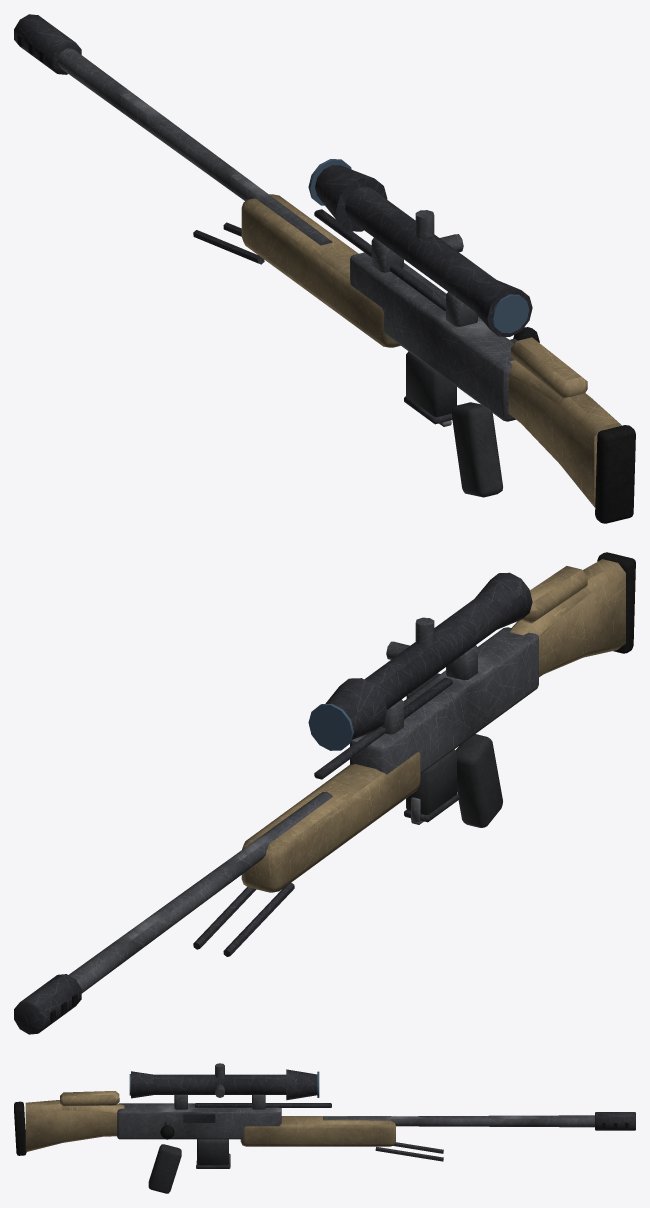
File: sniper.glb
3 views of the same model, one above another, from view 1: azimuth 30°, elevation 25°; view 2: azimuth 150°, elevation 25°; view 3: azimuth 270°, elevation 25° (orthographic). The views are drawn at different scales.
Parts seen in each view (by area): view 1: body, mag; view 2: body, mag; view 3: body, mag.
Boxes of the visible parts, <box> form: body: <box>14,14,635,523</box>; mag: <box>404,351,456,424</box>; body: <box>14,552,635,1034</box>; mag: <box>404,749,459,822</box>; body: <box>14,1063,635,1193</box>; mag: <box>196,1139,229,1168</box>.
Size of the model in its own units: 0.118 by 0.3052 by 1.36.
Materials: 6 (5 with a texture image).
